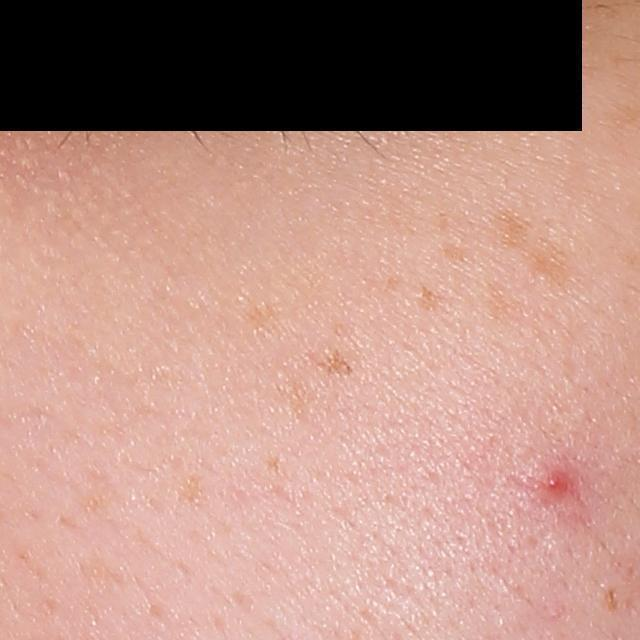melasma: (520, 239, 571, 286), (489, 205, 534, 254), (316, 347, 356, 379), (417, 284, 447, 311), (438, 241, 470, 266)
papule: (535, 462, 576, 503)
